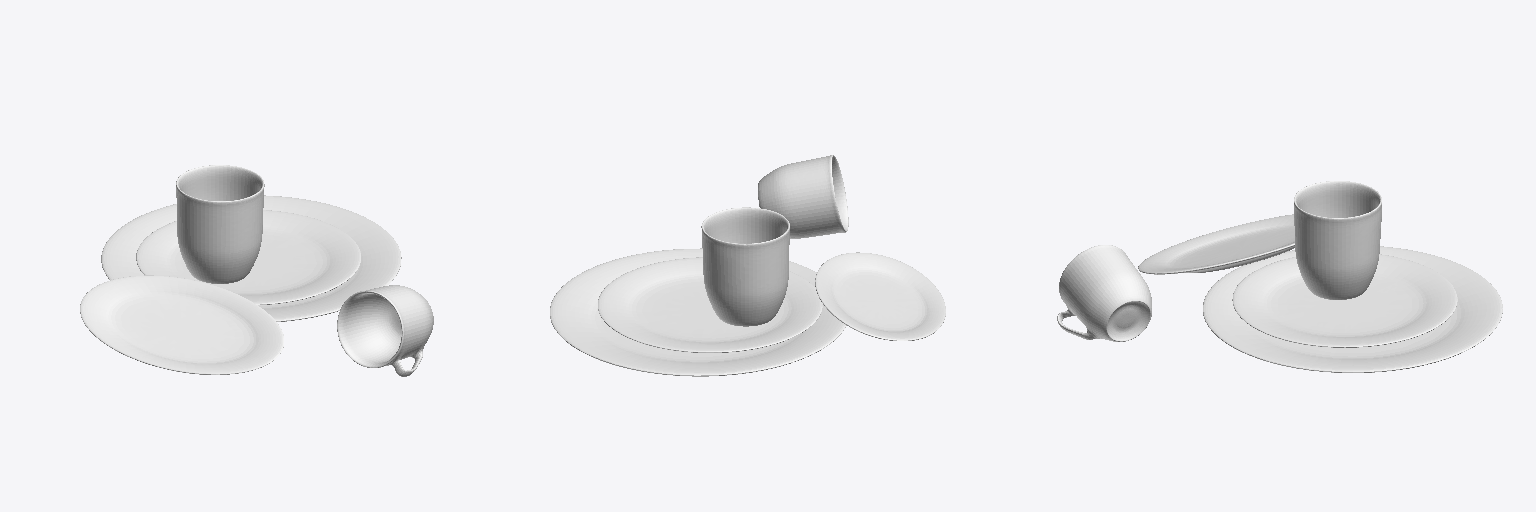
The model's file is Dishware.obj.
The picture shows the model from 3 angles: view 1: azimuth 30°, elevation 25°; view 2: azimuth 150°, elevation 25°; view 3: azimuth 270°, elevation 25°; orthographic projection.
Parts seen in each view (by area): view 1: sidedish_plate, med_plate, med_cup, lrg_plate, mug; view 2: med_plate, lrg_plate, med_cup, sidedish_plate, mug; view 3: med_plate, lrg_plate, med_cup, mug, sidedish_plate.
Part boxes in pixels (x1,y1,x2,y2): sidedish_plate: (80,275,283,374); med_plate: (136,210,360,304); med_cup: (176,165,264,283); lrg_plate: (101,195,401,321); mug: (337,285,433,376); med_plate: (598,257,822,352); lrg_plate: (550,248,846,376); med_cup: (701,207,789,326); sidedish_plate: (815,252,945,340); mug: (758,155,848,238); med_plate: (1232,254,1457,347); lrg_plate: (1203,246,1502,372); med_cup: (1294,181,1381,299); mug: (1057,245,1151,341); sidedish_plate: (1138,214,1294,274).
Bounding box in the file's own units: 1.53 × 0.483 × 1.83.